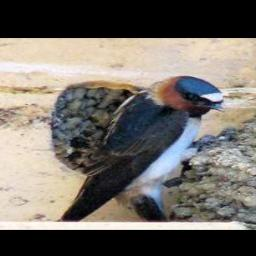Swallow: (48, 74, 224, 220)
